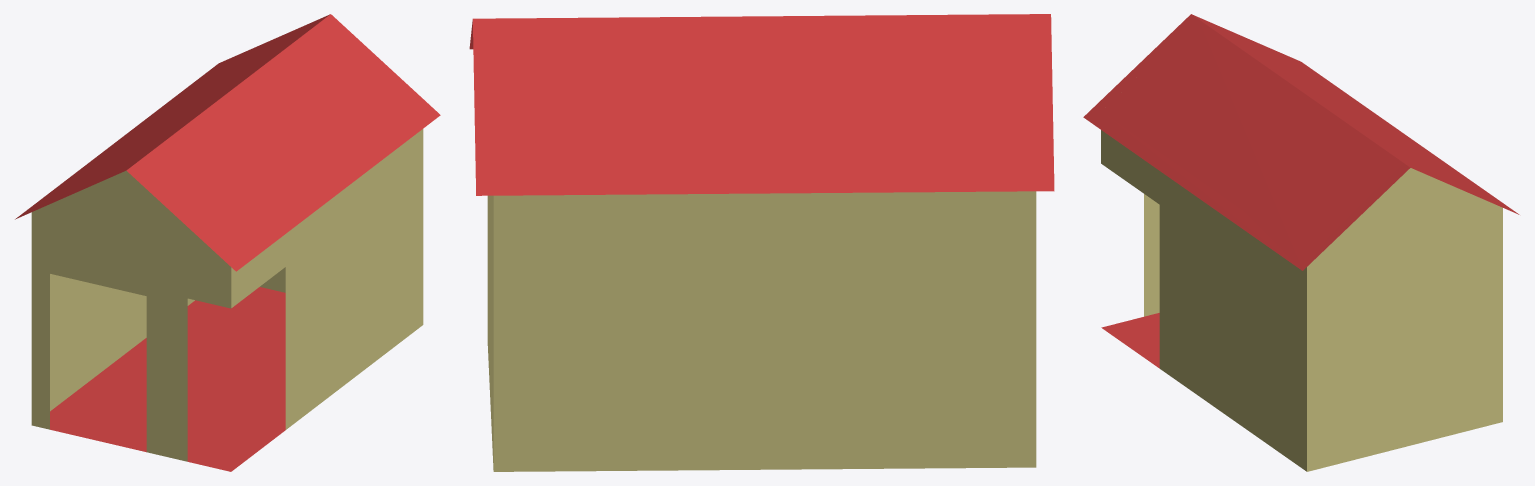
3 renders of one model, left to right at view 1: azimuth 30°, elevation 25°; view 2: azimuth 150°, elevation 25°; view 3: azimuth 270°, elevation 25°, orthographic. The views are drawn at different scales.
Size of the model in its own units: 19 by 16.78 by 12.03.
